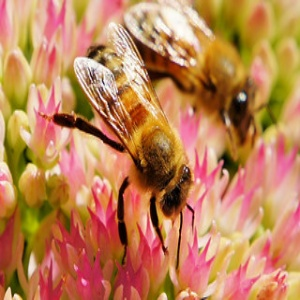bee: (48, 32, 193, 261), (123, 1, 254, 115)
